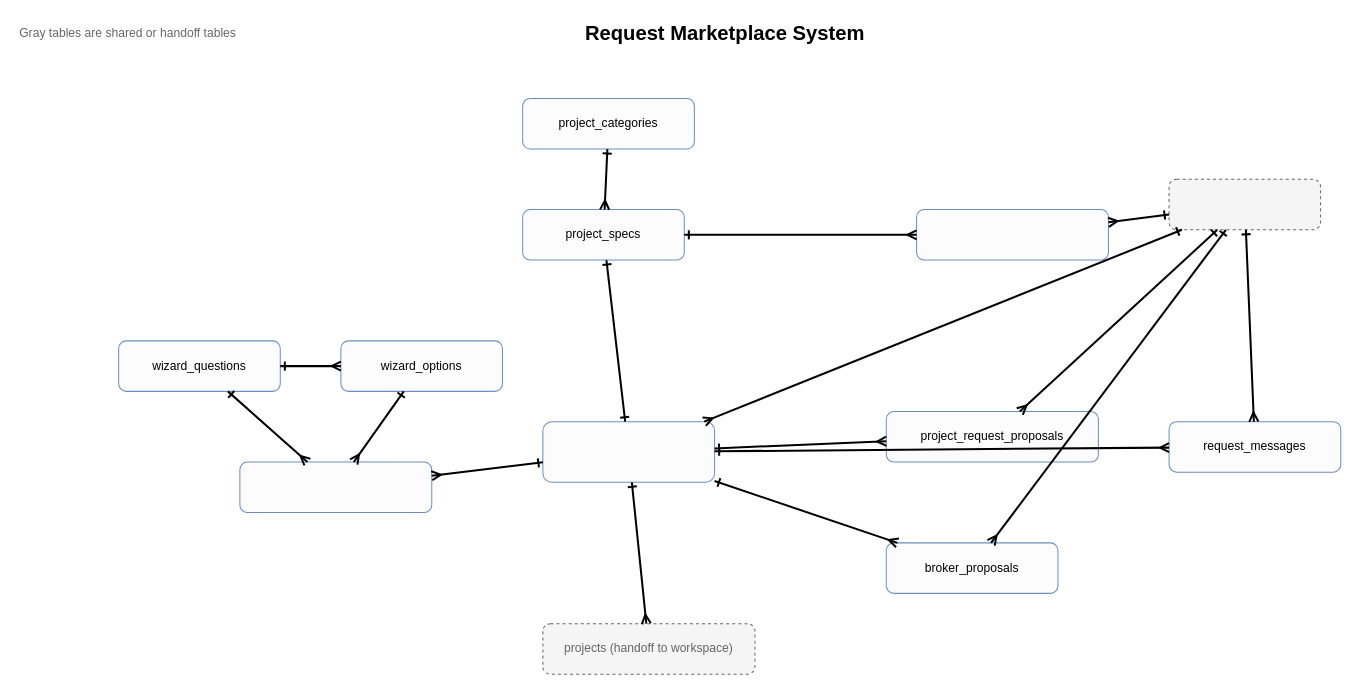
This 1358x692 diagram has some shape labels left out. The box of each missing label's shape, as (x1, y1, x2, y2) in pixels:
project_request_answers: (239, 461, 432, 513)
project_requests: (542, 421, 715, 482)
project_spec_signatures: (916, 209, 1108, 260)
users (shared): (1168, 178, 1321, 230)
